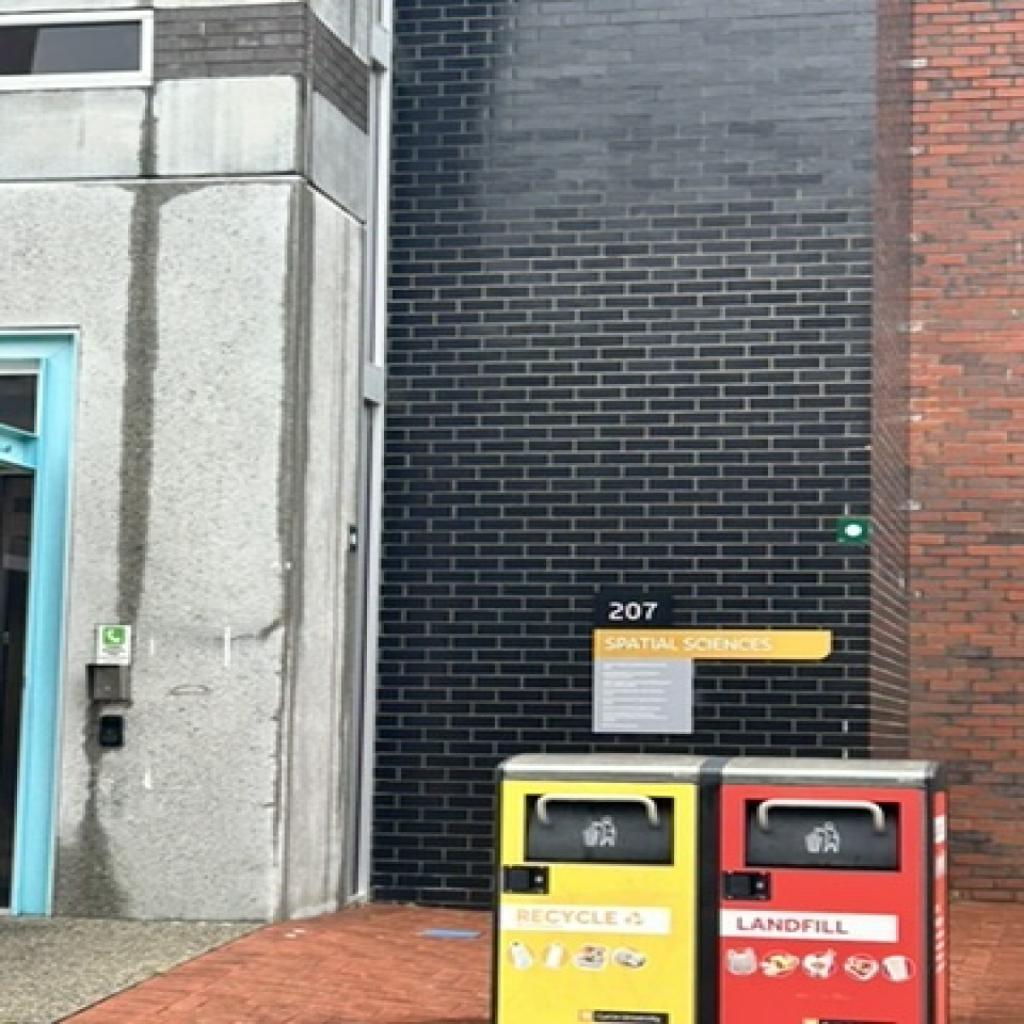BuildingCodes: (601, 595, 663, 625)
